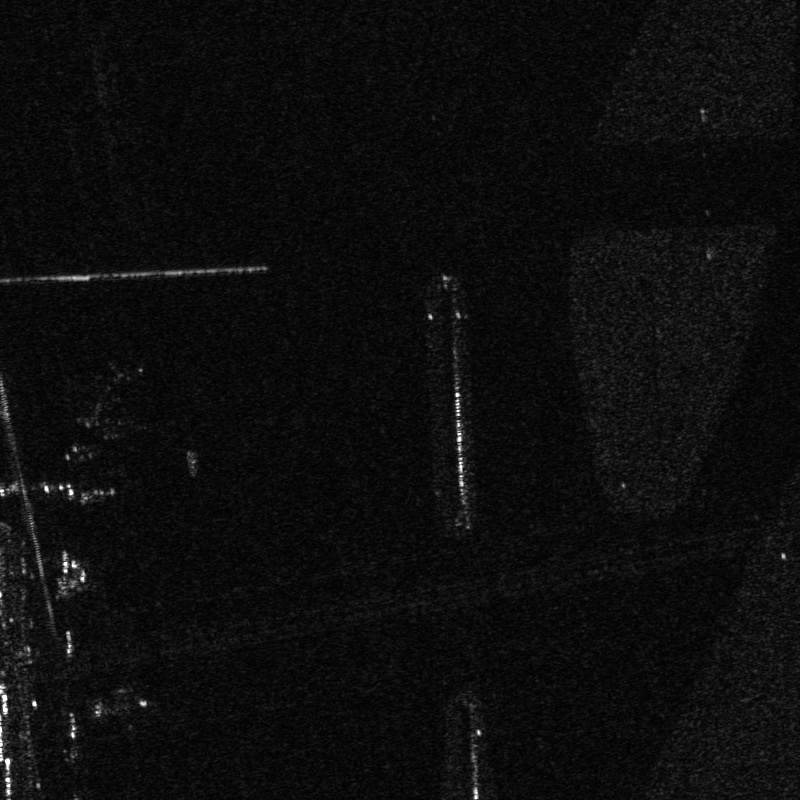A220: (85, 673, 162, 742)
A320/321: (33, 351, 165, 475)
